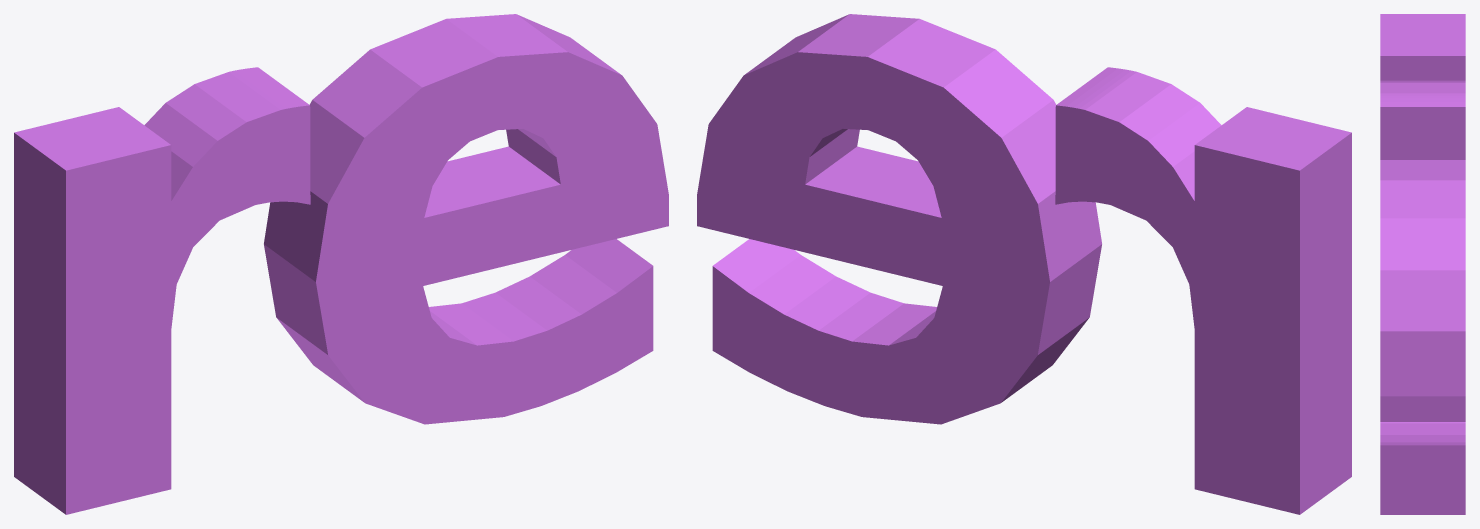
The model's file is suku_kecil_re.glb.
3 views of the same model, side by side, from view 1: azimuth 30°, elevation 25°; view 2: azimuth 150°, elevation 25°; view 3: azimuth 270°, elevation 25° (orthographic). The views are drawn at different scales.
Parts seen in each view (by area): view 1: geometry_0; view 2: geometry_0; view 3: geometry_0.
Boxes of the visible parts, left/top/right/bottom form: geometry_0: left=14, top=14, right=668, bottom=514; geometry_0: left=697, top=14, right=1351, bottom=514; geometry_0: left=1380, top=14, right=1465, bottom=514.
Size of the model in its own units: 10.02 by 5.74 by 1.5.
